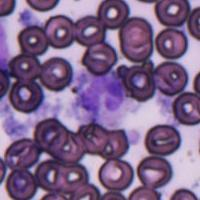N: (74, 71, 129, 130)
